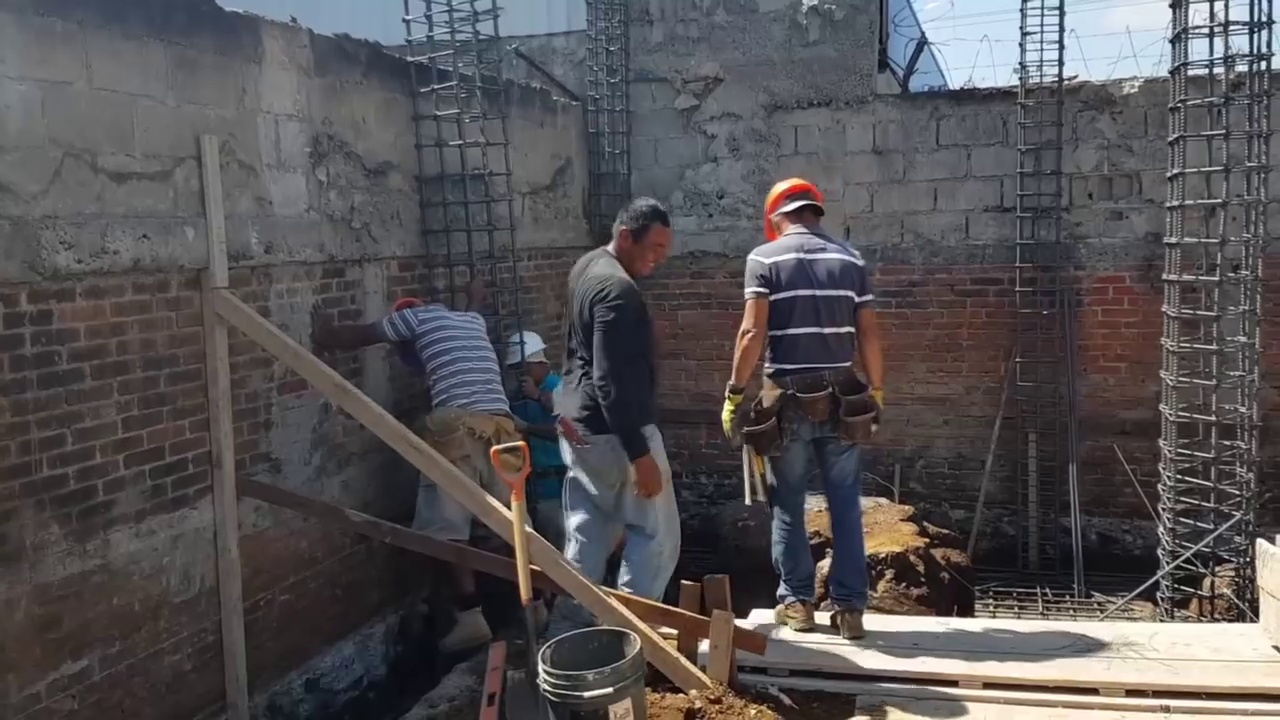helmet: (763, 169, 823, 231), (504, 333, 550, 366)
helmet-off: (607, 195, 669, 283)
helmet-on: (762, 178, 831, 244), (504, 333, 548, 406), (388, 295, 424, 320)
person: (730, 169, 891, 631), (352, 274, 537, 620), (550, 192, 688, 643), (496, 332, 573, 604)
